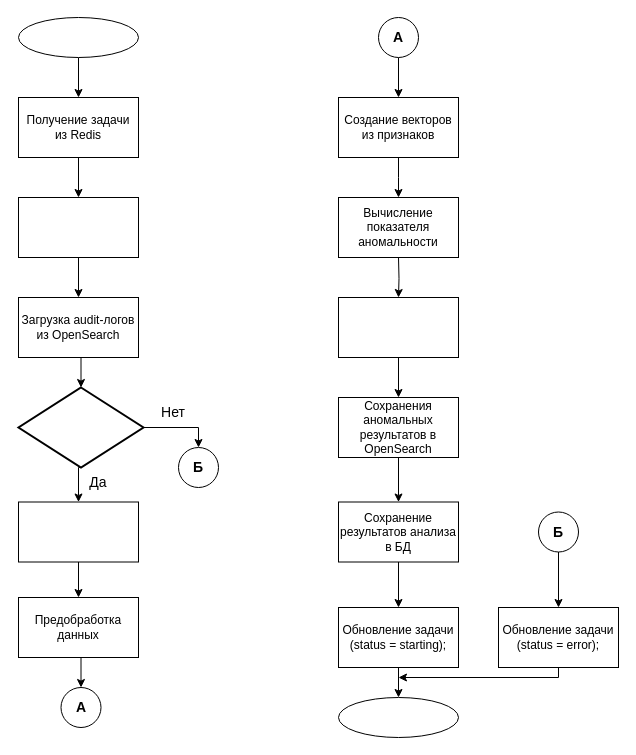
The diagram is 636 pixels wide and 755 high, and some of its shapes have lost their labels. The shapes that lost their labels are listed below. From the top down, each one's box as (x1, y1, x2, y2) in pixels, then its label:
(18, 16, 138, 58): Начало
(18, 196, 138, 258): Обновление задачи (status = running);
(338, 296, 458, 358): Классификация событий
(17, 386, 144, 468): Данные успешно загруенны
(18, 501, 138, 562): Группировка данных по сессиям пользователей
(338, 696, 458, 738): Конец
